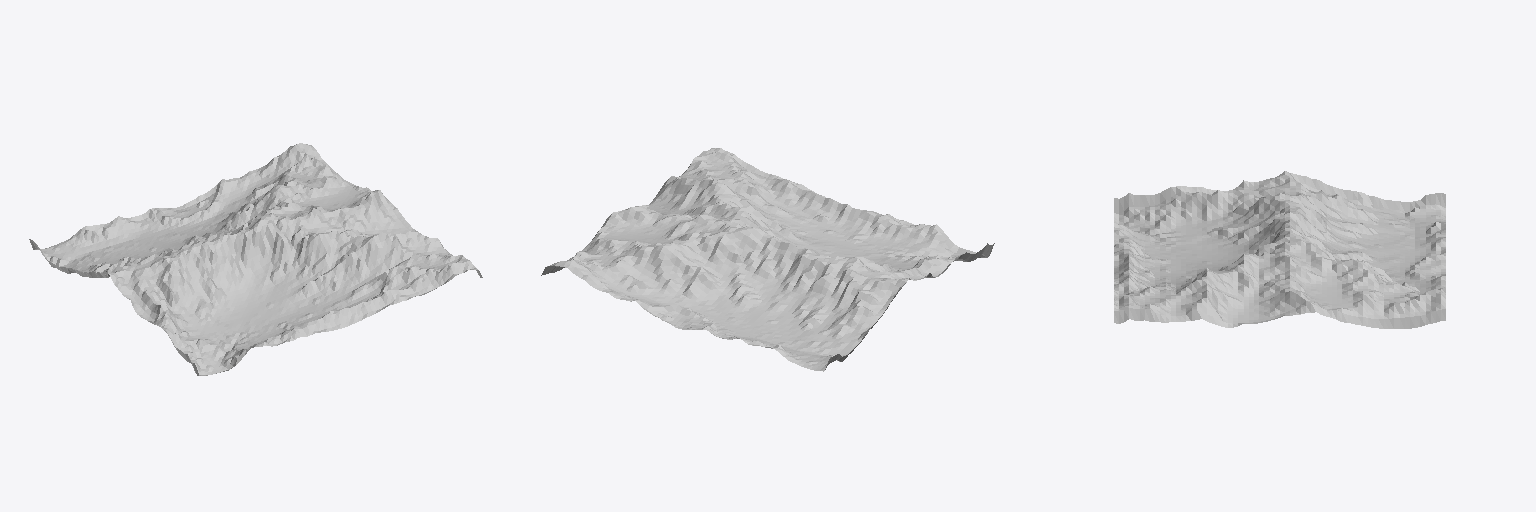
File: landscape5.obj
The picture shows the model from 3 angles: view 1: azimuth 30°, elevation 25°; view 2: azimuth 150°, elevation 25°; view 3: azimuth 270°, elevation 25°; orthographic projection.
Visible parts, largest first — view 1: Plane_Plane.004; view 2: Plane_Plane.004; view 3: Plane_Plane.004.
Part boxes in pixels (x1,y1,x2,y2): Plane_Plane.004: (29, 143, 482, 375); Plane_Plane.004: (541, 148, 994, 371); Plane_Plane.004: (1114, 171, 1445, 328).
Bounding box in the file's own units: 40 × 7.82 × 40.